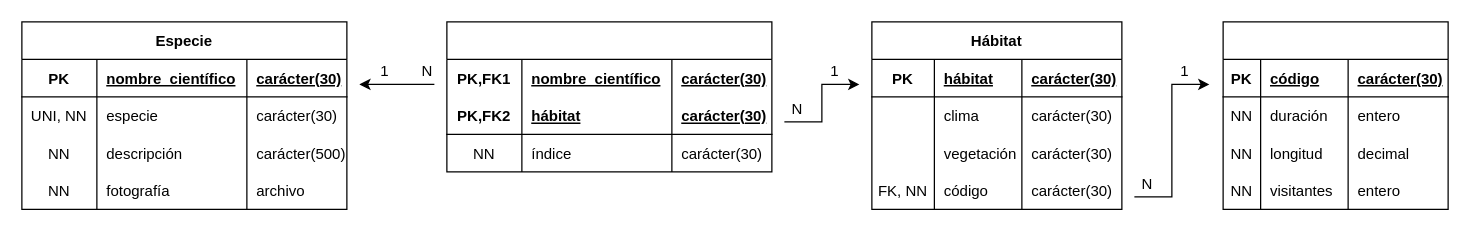
This 1470x231 diagram has some shape labels left out. The box of each missing label's shape, as (x1, y1, x2, y2) in pixels:
Itinerario: (1222, 21, 1448, 209)
Vive_en: (446, 21, 772, 172)
